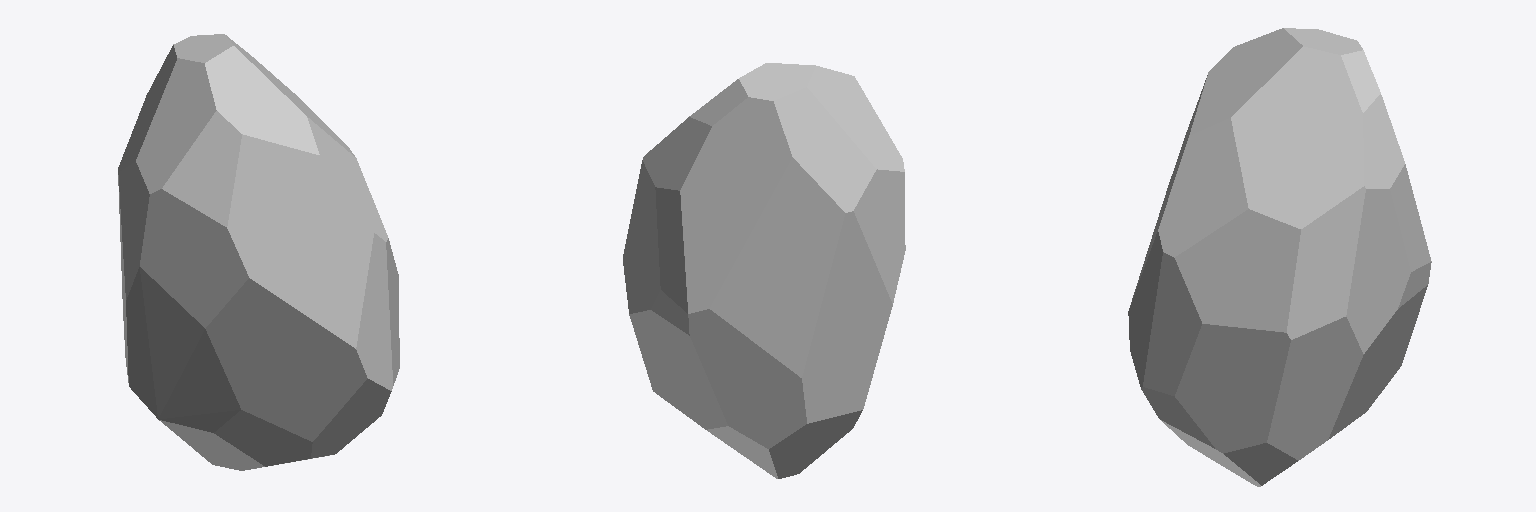
The model's file is smallStone0.obj.
The picture shows the model from 3 angles: view 1: azimuth 30°, elevation 25°; view 2: azimuth 150°, elevation 25°; view 3: azimuth 270°, elevation 25°; orthographic projection.
Visible parts, largest first — view 1: Icosphere_004; view 2: Icosphere_004; view 3: Icosphere_004.
Boxes of the visible parts, <box> form: Icosphere_004: <box>118,34,399,470</box>; Icosphere_004: <box>623,63,905,478</box>; Icosphere_004: <box>1128,28,1431,486</box>.
Bounding box in the file's own units: 43.4 × 66.54 × 44.71.